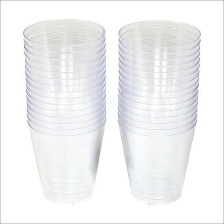glass: (111, 13, 202, 208), (19, 13, 109, 206)
